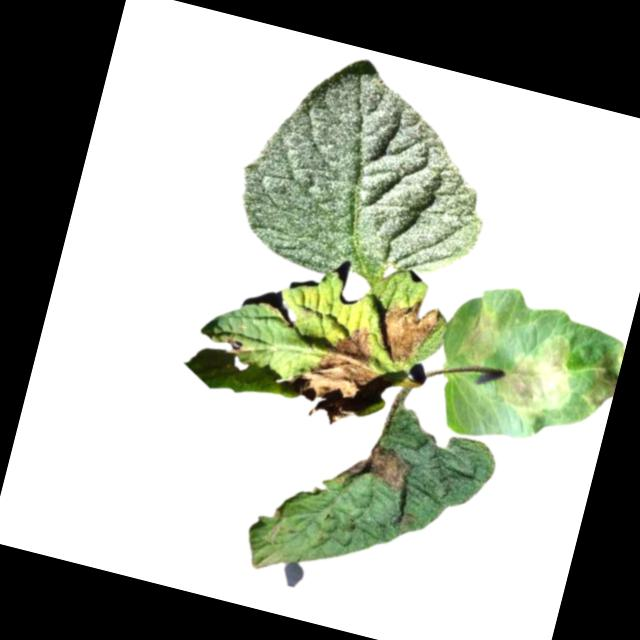Late_blight: (278, 310, 387, 430), (491, 324, 586, 425), (371, 289, 443, 372), (334, 436, 417, 498), (454, 303, 509, 373), (577, 348, 622, 414), (221, 336, 248, 359)
